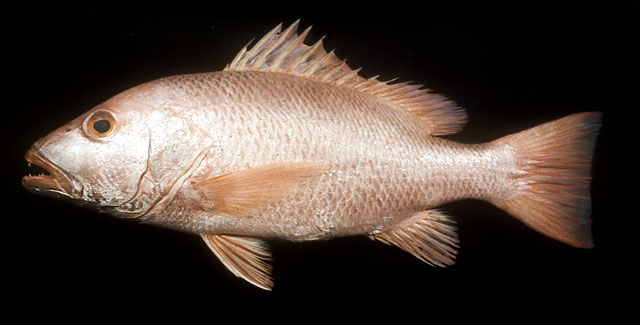fish: (21, 18, 602, 292)
